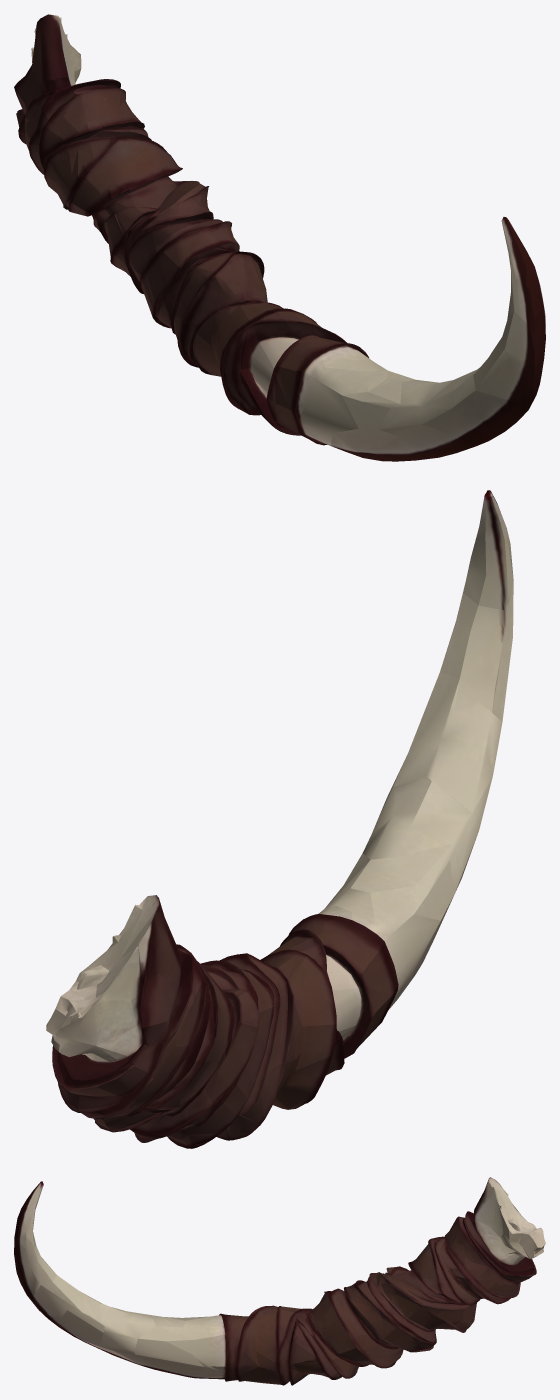
File: thalor_m-defense-cuir.glb
3 views of the same model, one above another, from view 1: azimuth 30°, elevation 25°; view 2: azimuth 150°, elevation 25°; view 3: azimuth 270°, elevation 25° (orthographic). The views are drawn at different scales.
Parts seen in each view (by area): view 1: geometry_0; view 2: geometry_0; view 3: geometry_0.
Boxes of the visible parts, left/top/right/bottom form: geometry_0: left=14, top=14, right=545, bottom=461; geometry_0: left=46, top=490, right=513, bottom=1148; geometry_0: left=14, top=1177, right=545, bottom=1385.
Bounding box in the file's own units: 0.3913 × 0.8274 × 1.9.
1 material, 1 textured.
